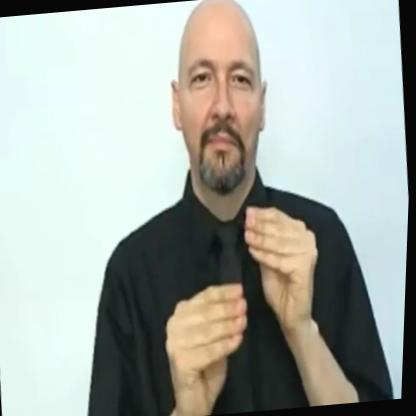Fix: (136, 192, 338, 416)
